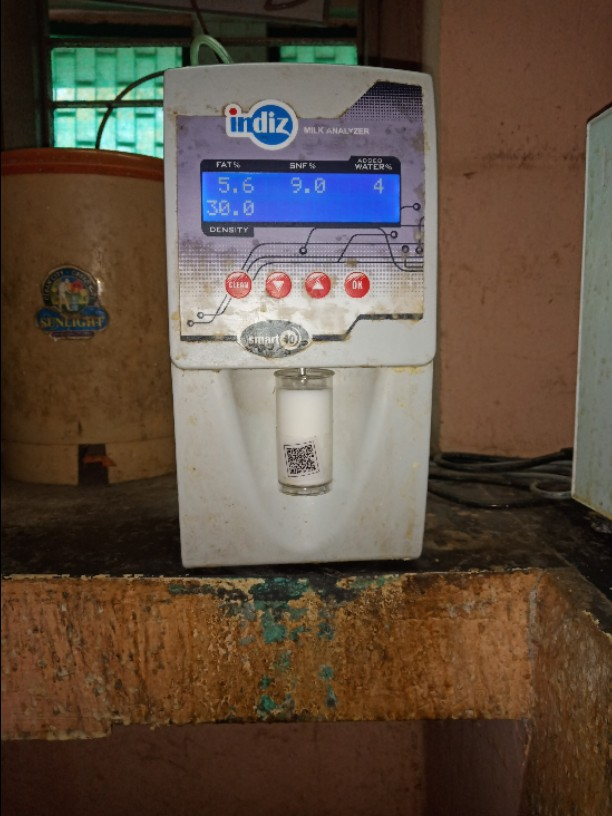lcd: (194, 166, 414, 237)
qr: (278, 439, 327, 480)
